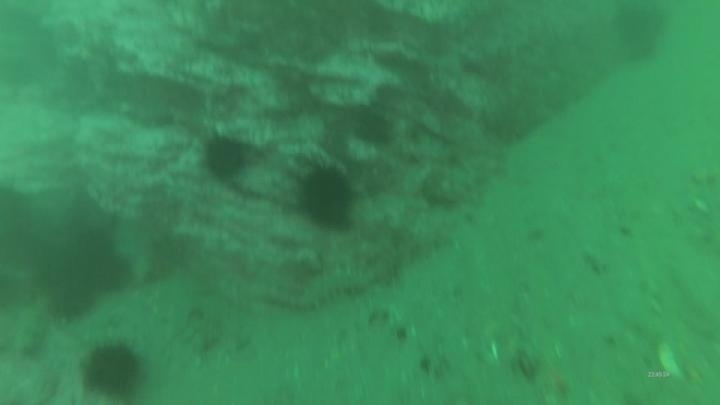echinus: (294, 160, 359, 233), (78, 337, 148, 402), (66, 235, 134, 297), (41, 258, 101, 322), (609, 3, 670, 63), (200, 132, 250, 183), (351, 109, 396, 149)
holothurian: (291, 264, 376, 313)
